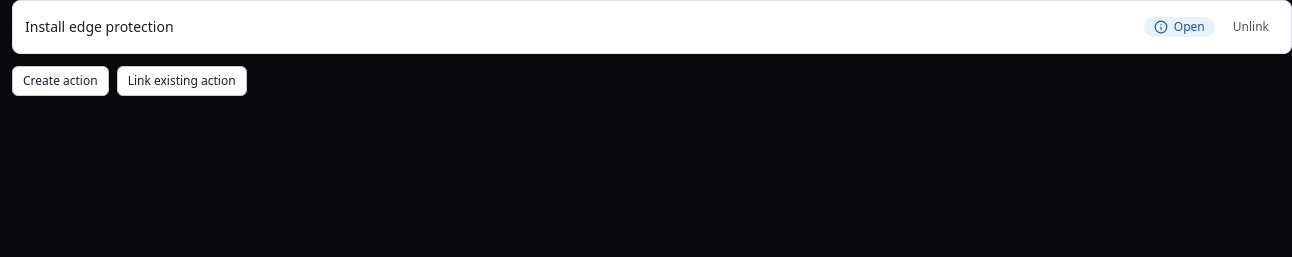
Test case: FindingActionsPanel › unlinks a linked action
The image size is (1292, 257).
Check: the button "Install edge protection" is shown, box x1=25 y1=17 x2=174 y2=37
Click the button "Unlink": (1251, 27) x1=1223 y1=13 x2=1279 y2=41
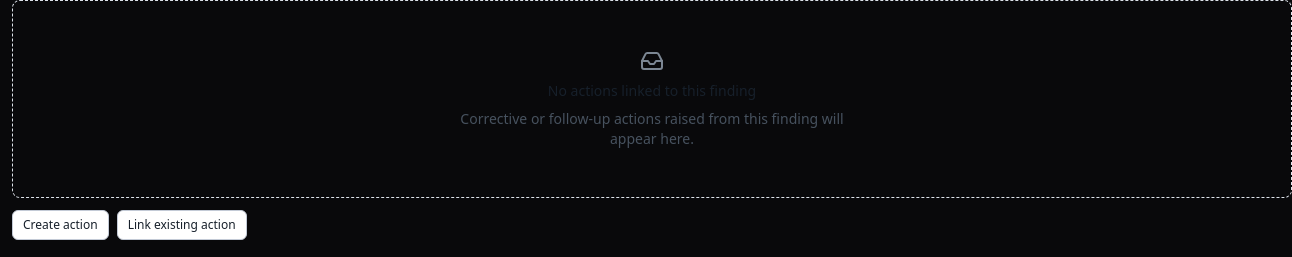
Check: the text "No actions linked to this finding" is shown, box x1=548 y1=81 x2=756 y2=101
